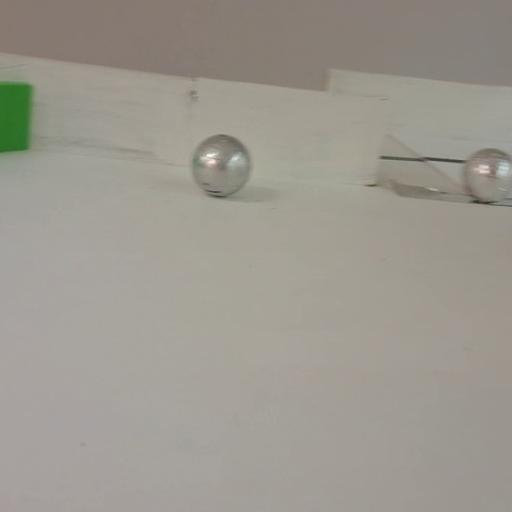alive: (190, 134, 252, 198), (462, 146, 512, 203)
